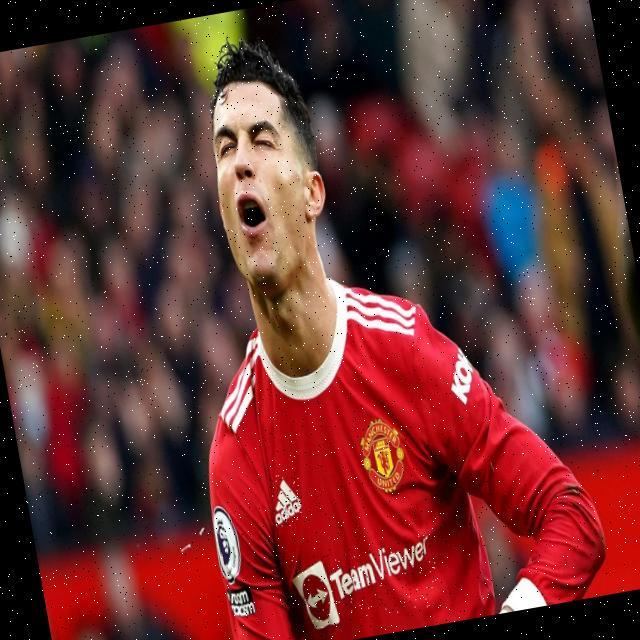Adidas: (268, 472, 306, 528)
TeamViewer: (288, 530, 443, 632)
